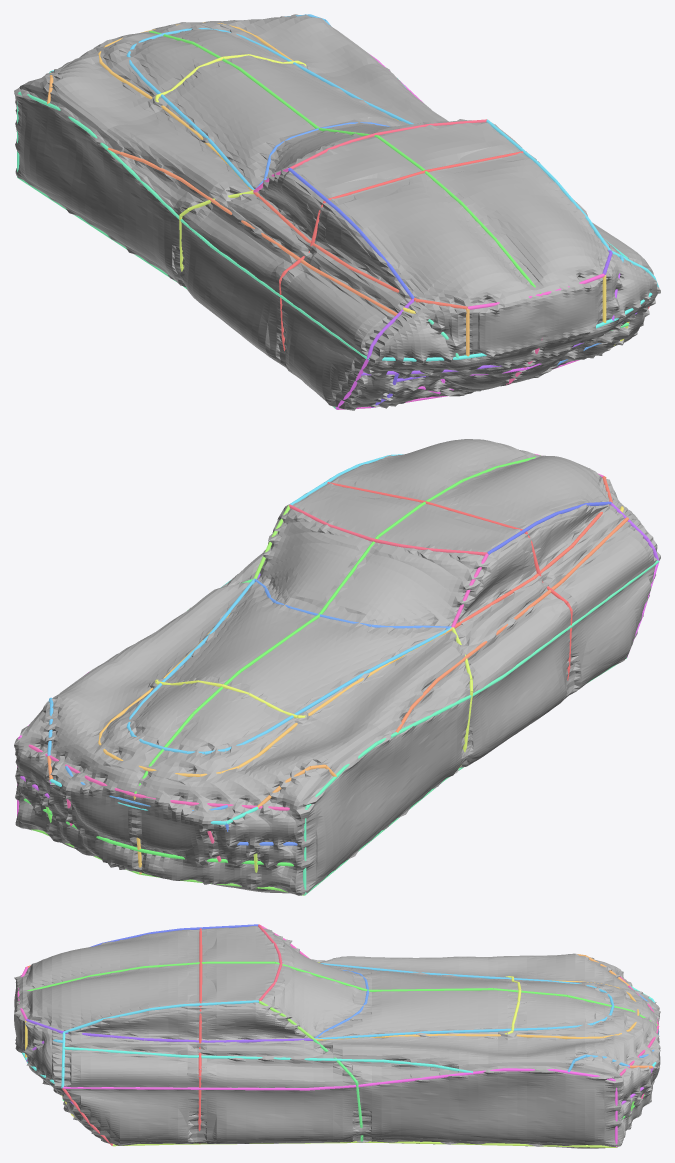
The model's file is t2f_car_93.gltf.
The picture shows the model from 3 angles, top to bottom: view 1: azimuth 30°, elevation 25°; view 2: azimuth 150°, elevation 25°; view 3: azimuth 270°, elevation 25°; orthographic projection. The views are drawn at different scales.
Size of the model in its own units: 0.3973 by 0.2365 by 0.9122.
